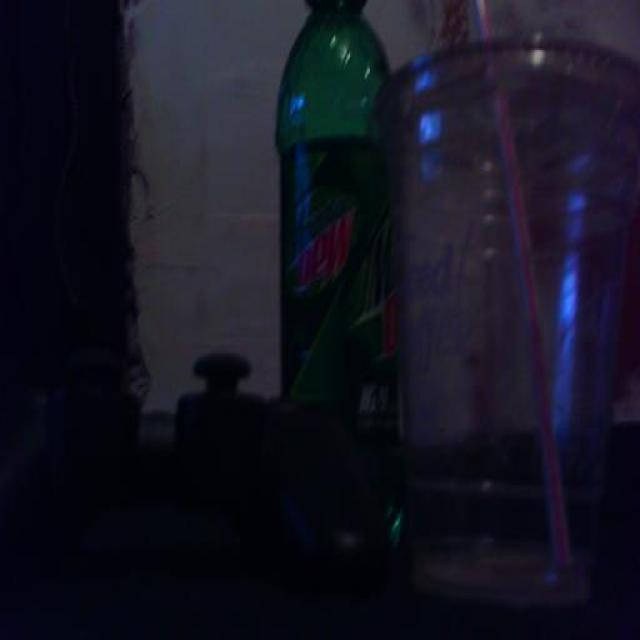Bottle: (269, 0, 404, 557)
Cup: (388, 27, 640, 628)
